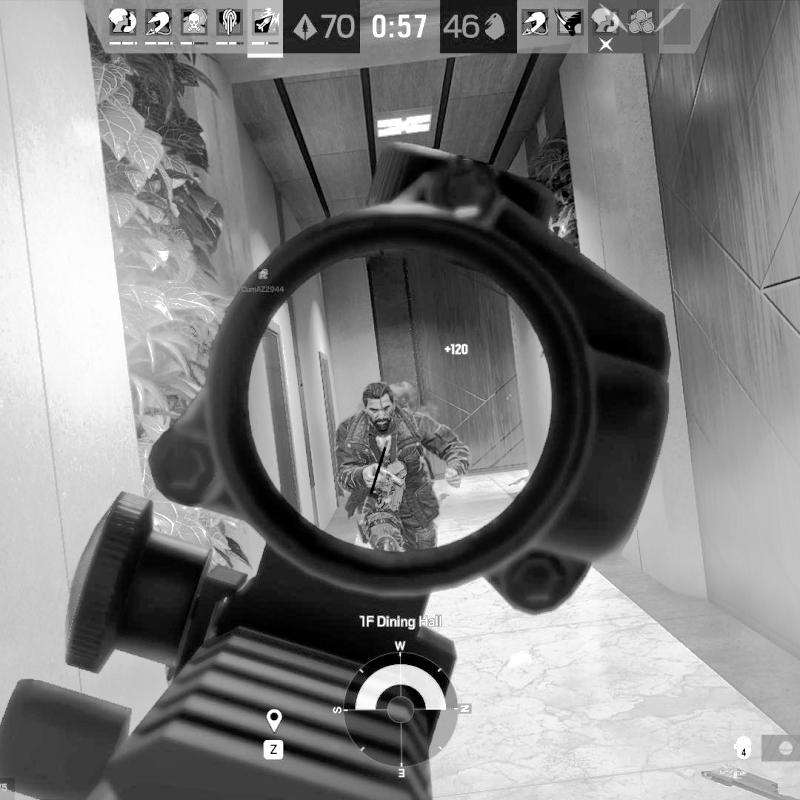Character: (331, 379, 473, 554)
Friend_label: (240, 267, 285, 295)
Head: (362, 380, 396, 431)
